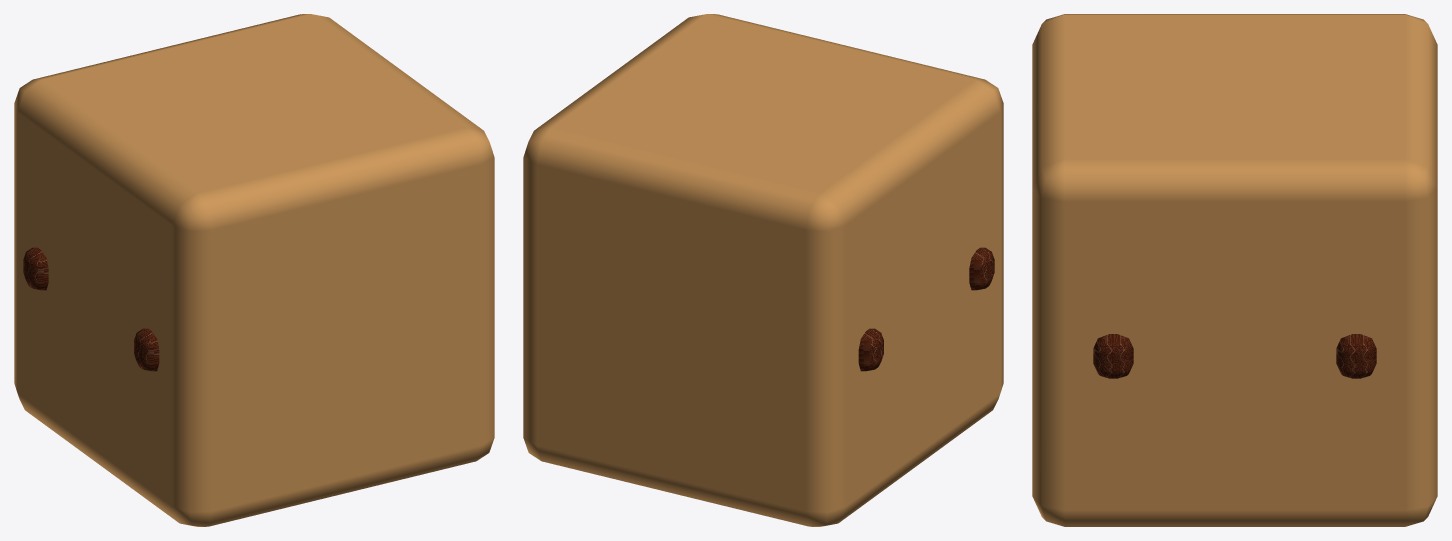
The model's file is crate.glb.
The picture shows the model from 3 angles, left to right: view 1: azimuth 30°, elevation 25°; view 2: azimuth 150°, elevation 25°; view 3: azimuth 270°, elevation 25°; orthographic projection. The views are drawn at different scales.
Visible parts, largest first — view 1: crate.001, crate_wood; view 2: crate.001, crate_wood; view 3: crate.001, crate_wood.
Part boxes in pixels (bbox=[...]): crate.001: bbox=[14, 14, 494, 526]; crate_wood: bbox=[23, 247, 159, 371]; crate.001: bbox=[523, 14, 1003, 526]; crate_wood: bbox=[858, 247, 994, 371]; crate.001: bbox=[1032, 14, 1437, 526]; crate_wood: bbox=[1093, 334, 1376, 378].
Size of the model in its own units: 1.08 by 1 by 1.
2 materials, 1 textured.
